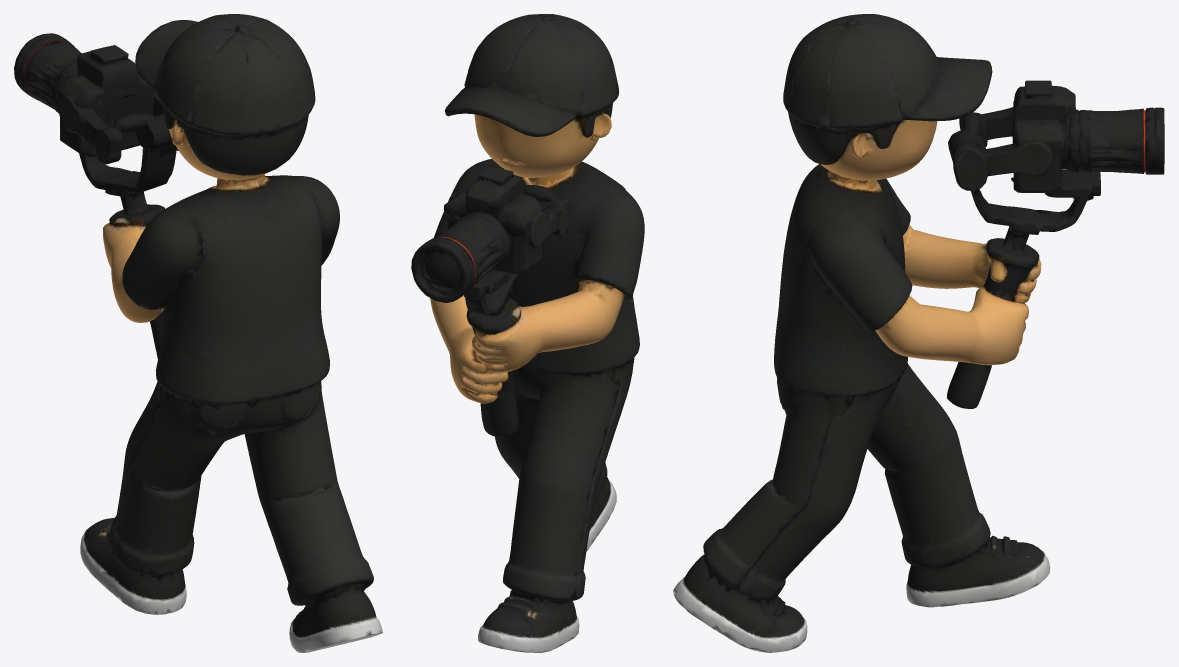
The model's file is cameraoperator.glb.
The picture shows the model from 3 angles, left to right: view 1: azimuth 30°, elevation 25°; view 2: azimuth 150°, elevation 25°; view 3: azimuth 270°, elevation 25°; orthographic projection. The views are drawn at different scales.
Parts seen in each view (by area): view 1: tripo_node_e327d8c1-ac13-4779-97cd-9d34113603c7; view 2: tripo_node_e327d8c1-ac13-4779-97cd-9d34113603c7; view 3: tripo_node_e327d8c1-ac13-4779-97cd-9d34113603c7.
Boxes of the visible parts, x1,y1,x2,y2 form: tripo_node_e327d8c1-ac13-4779-97cd-9d34113603c7: (14,14,382,652); tripo_node_e327d8c1-ac13-4779-97cd-9d34113603c7: (411,14,644,652); tripo_node_e327d8c1-ac13-4779-97cd-9d34113603c7: (673,14,1164,652).
Size of the model in its own units: 0.3524 by 0.9965 by 0.7433.
Materials: 1 (1 with a texture image).
